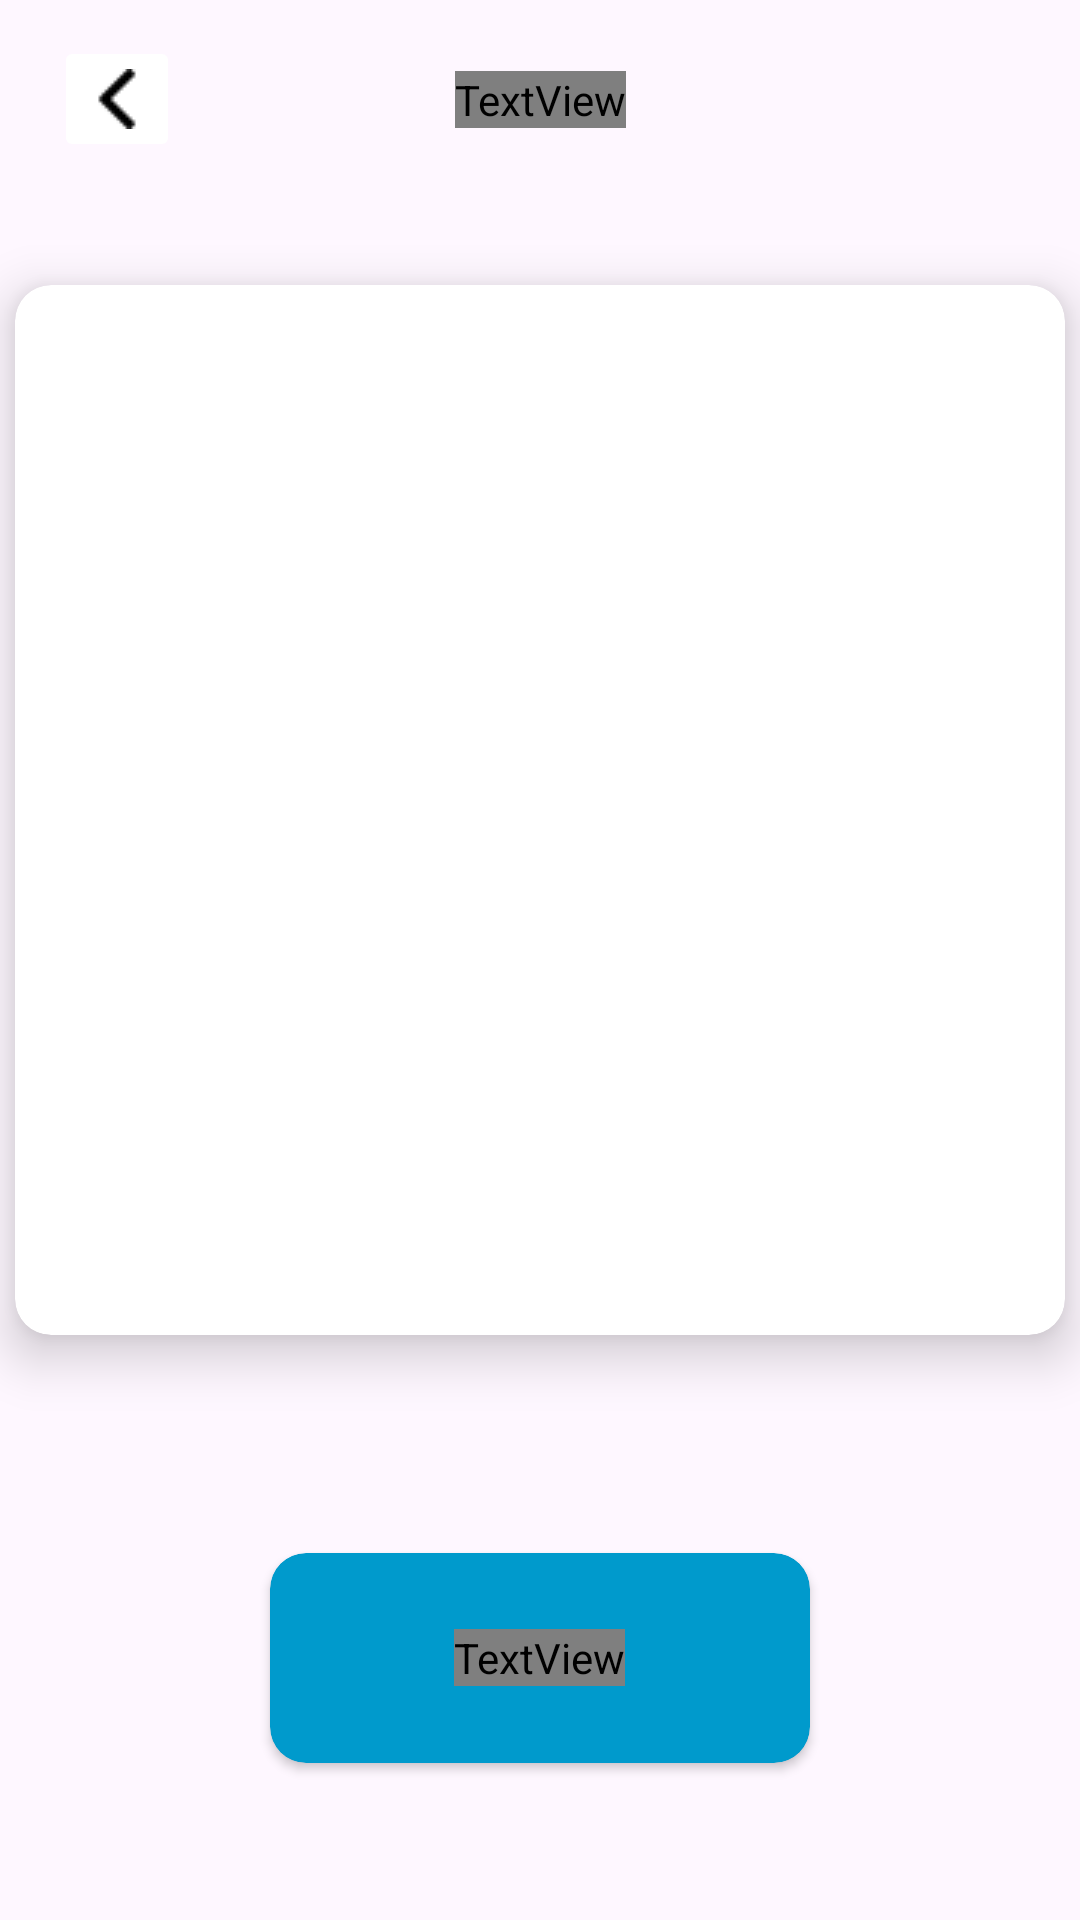

Point at icon controls on the screen. Image size 1080x1920, points as (x,y).
left arrow: (117,99)
